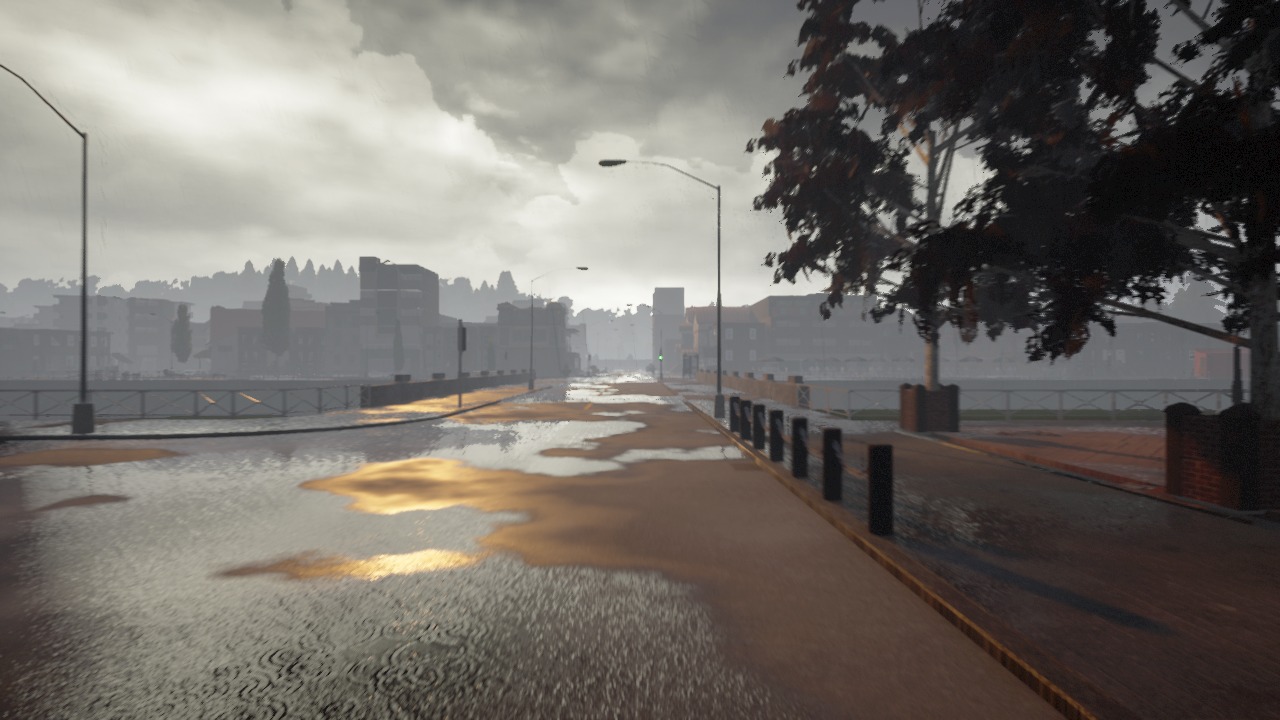green: (658, 349, 663, 361)
